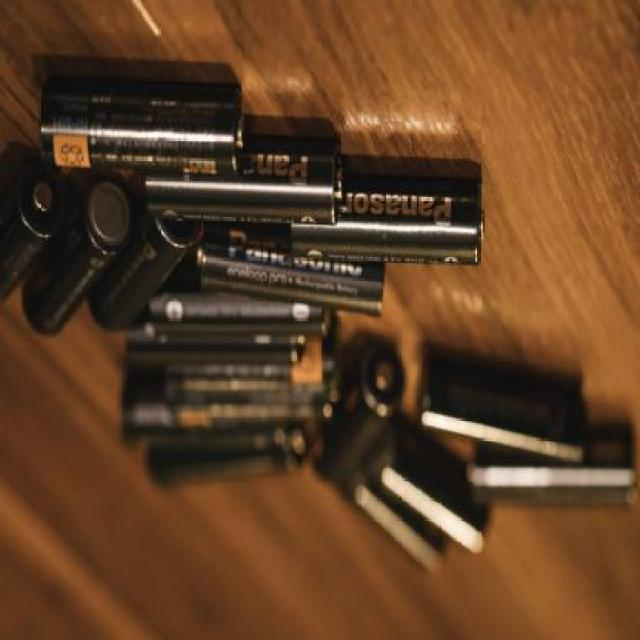hazardous waste: (25, 62, 258, 178), (281, 160, 494, 282), (139, 123, 343, 237), (194, 212, 388, 325), (19, 176, 130, 342), (85, 189, 203, 345), (3, 162, 65, 324)
